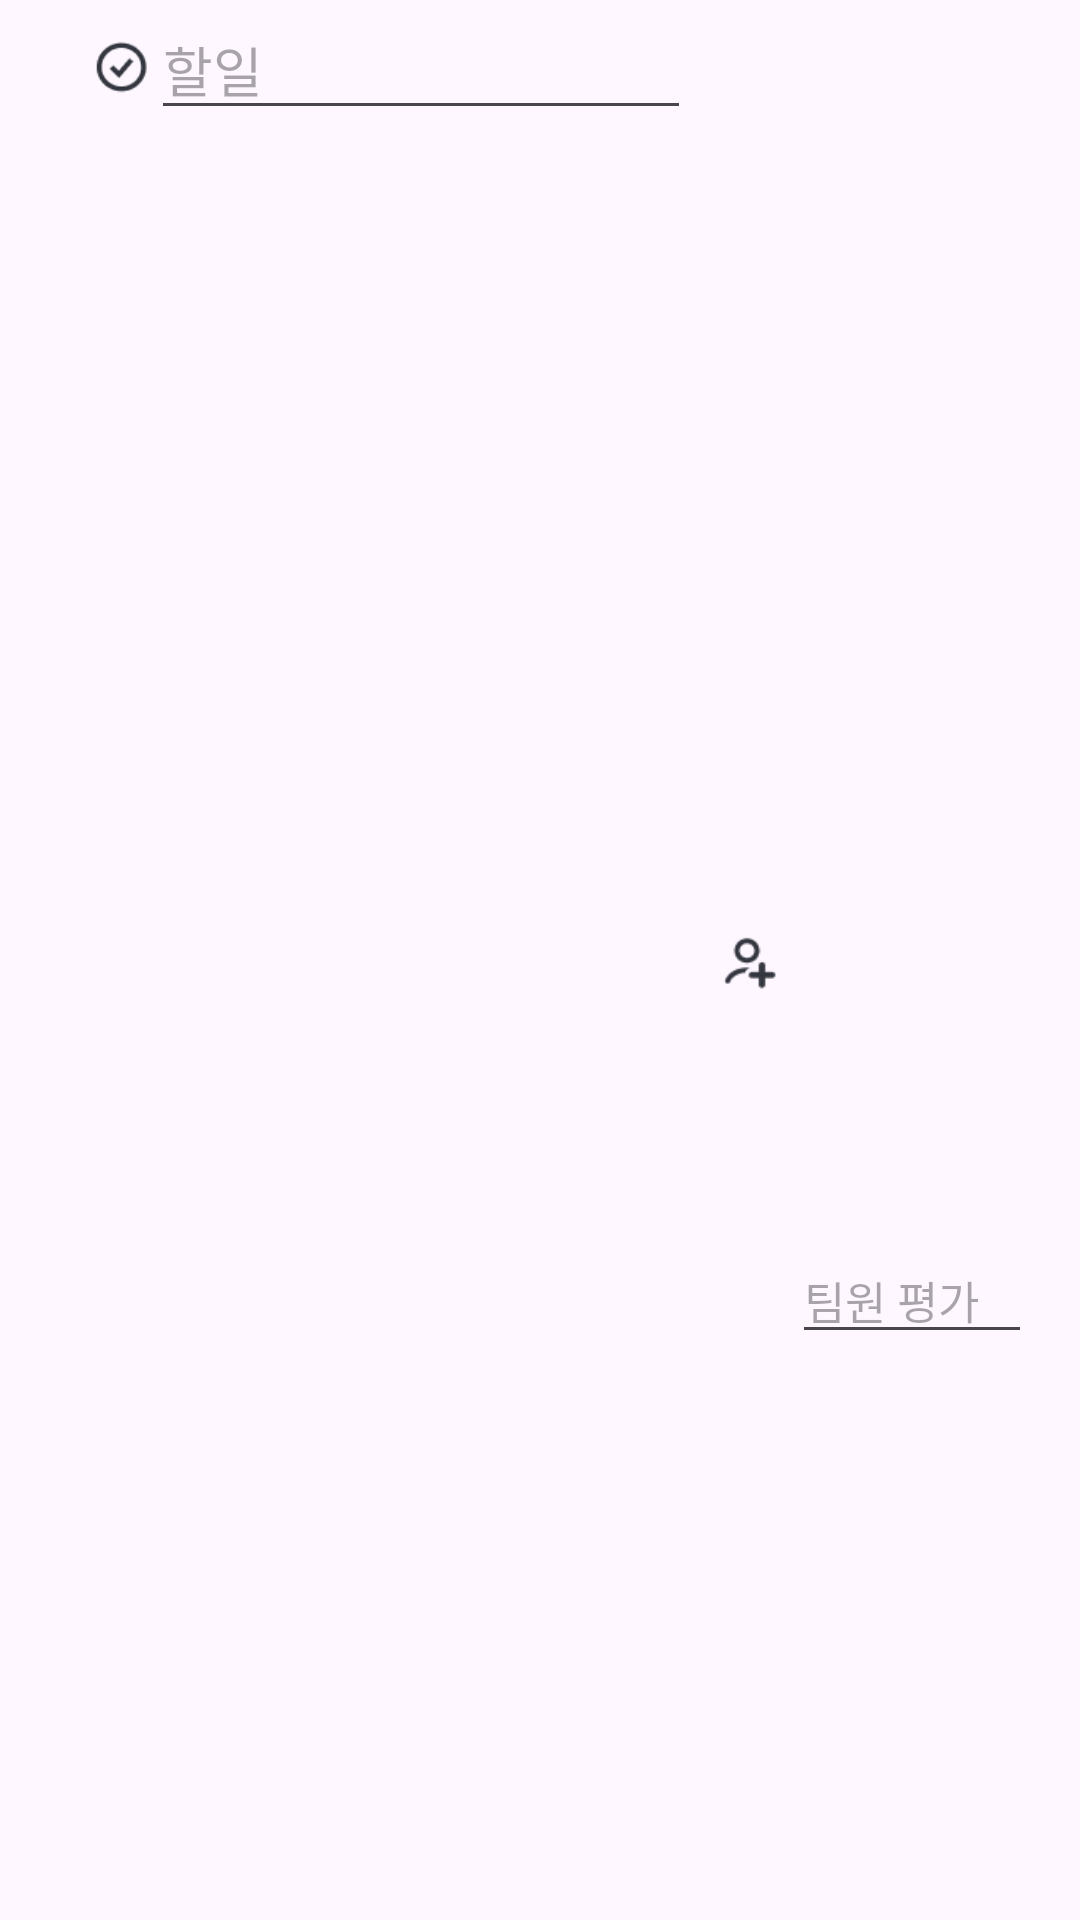

Icons on this 1080×1920 Android screen, each with its box as detection(x1, y1, x2, y2):
check ring: detection(96, 42, 147, 92)
user add: detection(725, 938, 776, 989)
